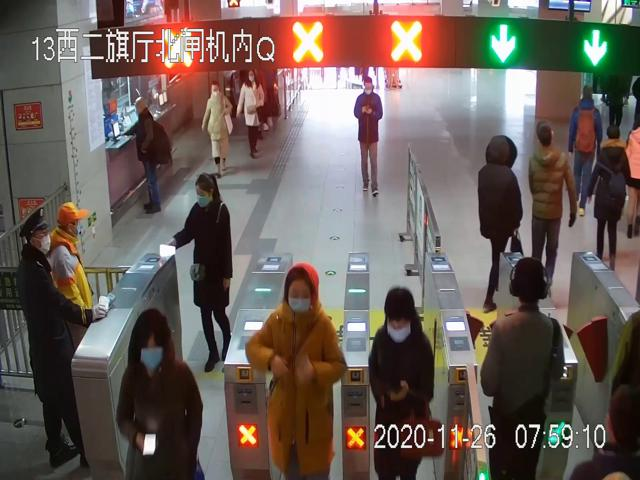person: (12, 206, 101, 470), (246, 259, 352, 480), (482, 256, 568, 477), (111, 302, 207, 480), (370, 284, 444, 480), (180, 172, 233, 372), (522, 120, 580, 294), (49, 196, 108, 343), (477, 133, 522, 314), (594, 119, 631, 269), (128, 94, 172, 215), (350, 73, 391, 198), (567, 82, 601, 217), (201, 80, 237, 176), (235, 70, 272, 161)
